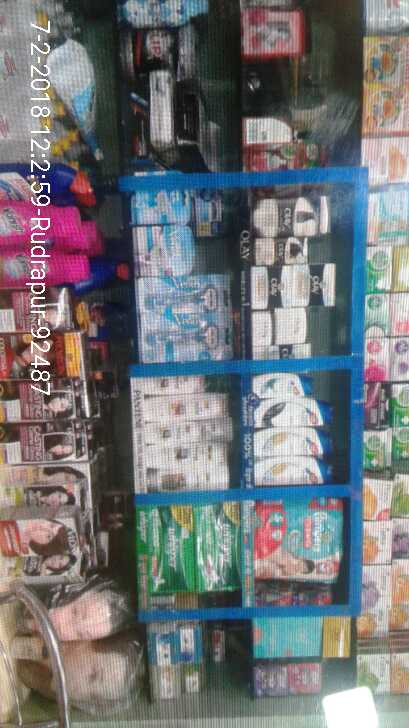venus: (141, 315, 230, 360), (141, 272, 233, 315), (136, 228, 193, 267), (133, 190, 186, 226)
